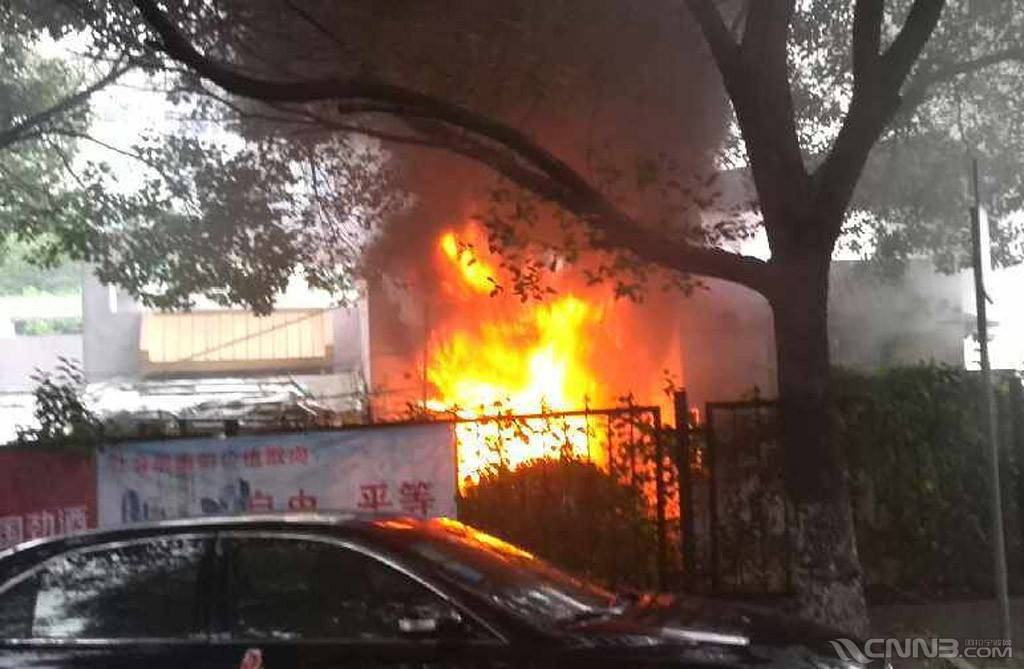fire: (399, 196, 706, 472)
